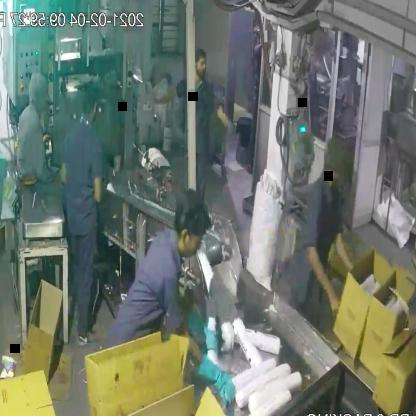glove: (193, 349, 243, 413), (183, 298, 223, 352)
no_glove: (299, 234, 345, 318), (329, 219, 360, 276), (142, 78, 184, 116), (206, 100, 236, 136)
